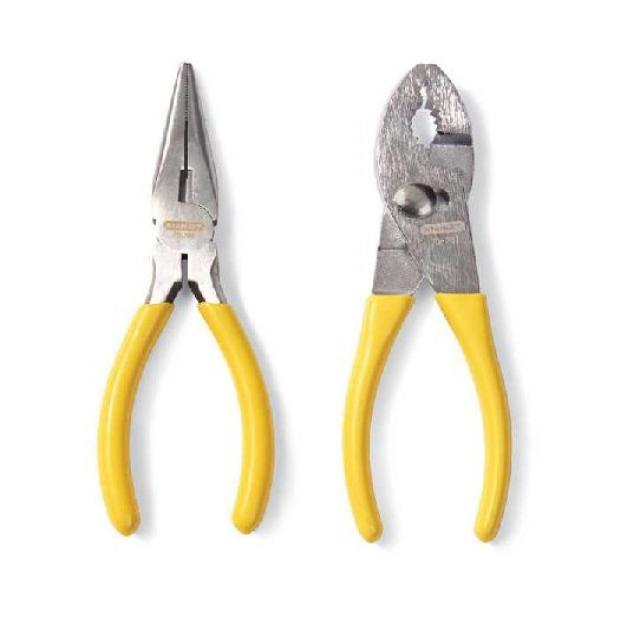pliers: (84, 51, 284, 544), (336, 49, 518, 550)
